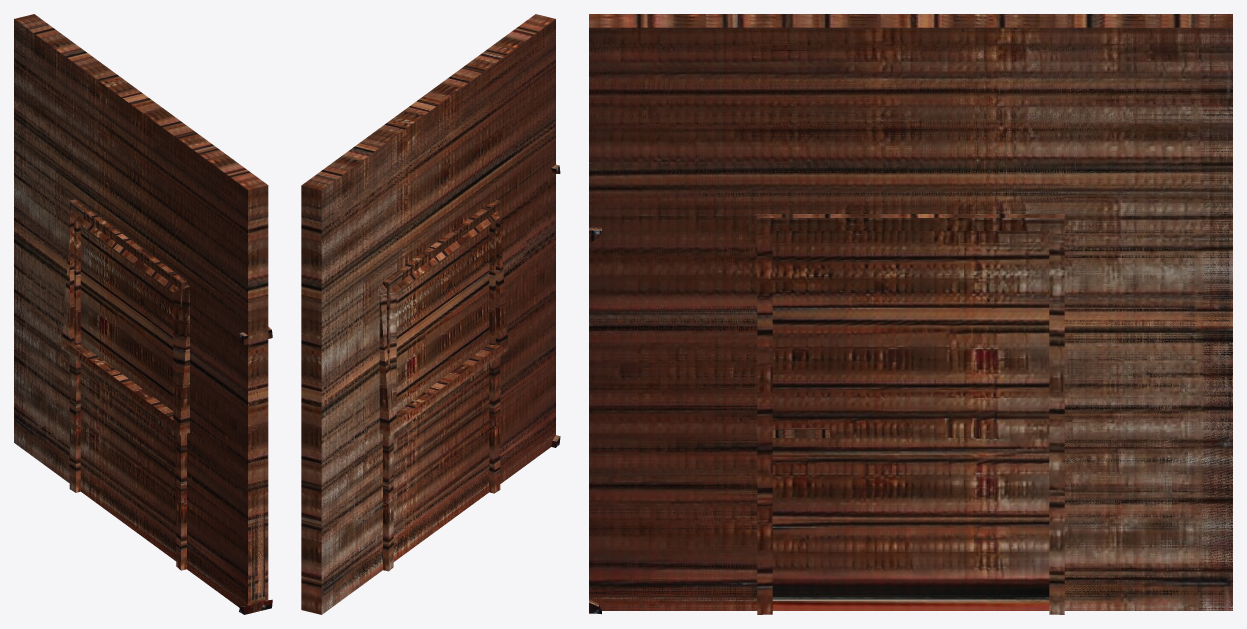
File: ModularCabinPieces.gltf
The picture shows the model from 3 angles, left to right: view 1: azimuth 30°, elevation 25°; view 2: azimuth 150°, elevation 25°; view 3: azimuth 270°, elevation 25°; orthographic projection. The views are drawn at different scales.
Parts seen in each view (by area): view 1: WindowWall, Wall, DoorFrame, Door; view 2: WindowWall, DoorFrame, Wall; view 3: DoorFrame, Wall, WindowWall, Door.
Boxes of the visible parts, x1,y1,x2,y2 form: WindowWall: (14, 14, 268, 613); Wall: (14, 20, 247, 606); DoorFrame: (14, 14, 268, 612); Door: (158, 326, 272, 614); WindowWall: (301, 14, 555, 614); DoorFrame: (302, 14, 555, 614); Wall: (321, 22, 555, 610); DoorFrame: (589, 14, 1232, 614); Wall: (589, 27, 1232, 610); WindowWall: (589, 14, 1232, 27); Door: (589, 227, 829, 614).
Bounding box in the file's own units: 0.211 × 2.34 × 2.34.
1 material, 1 textured.
